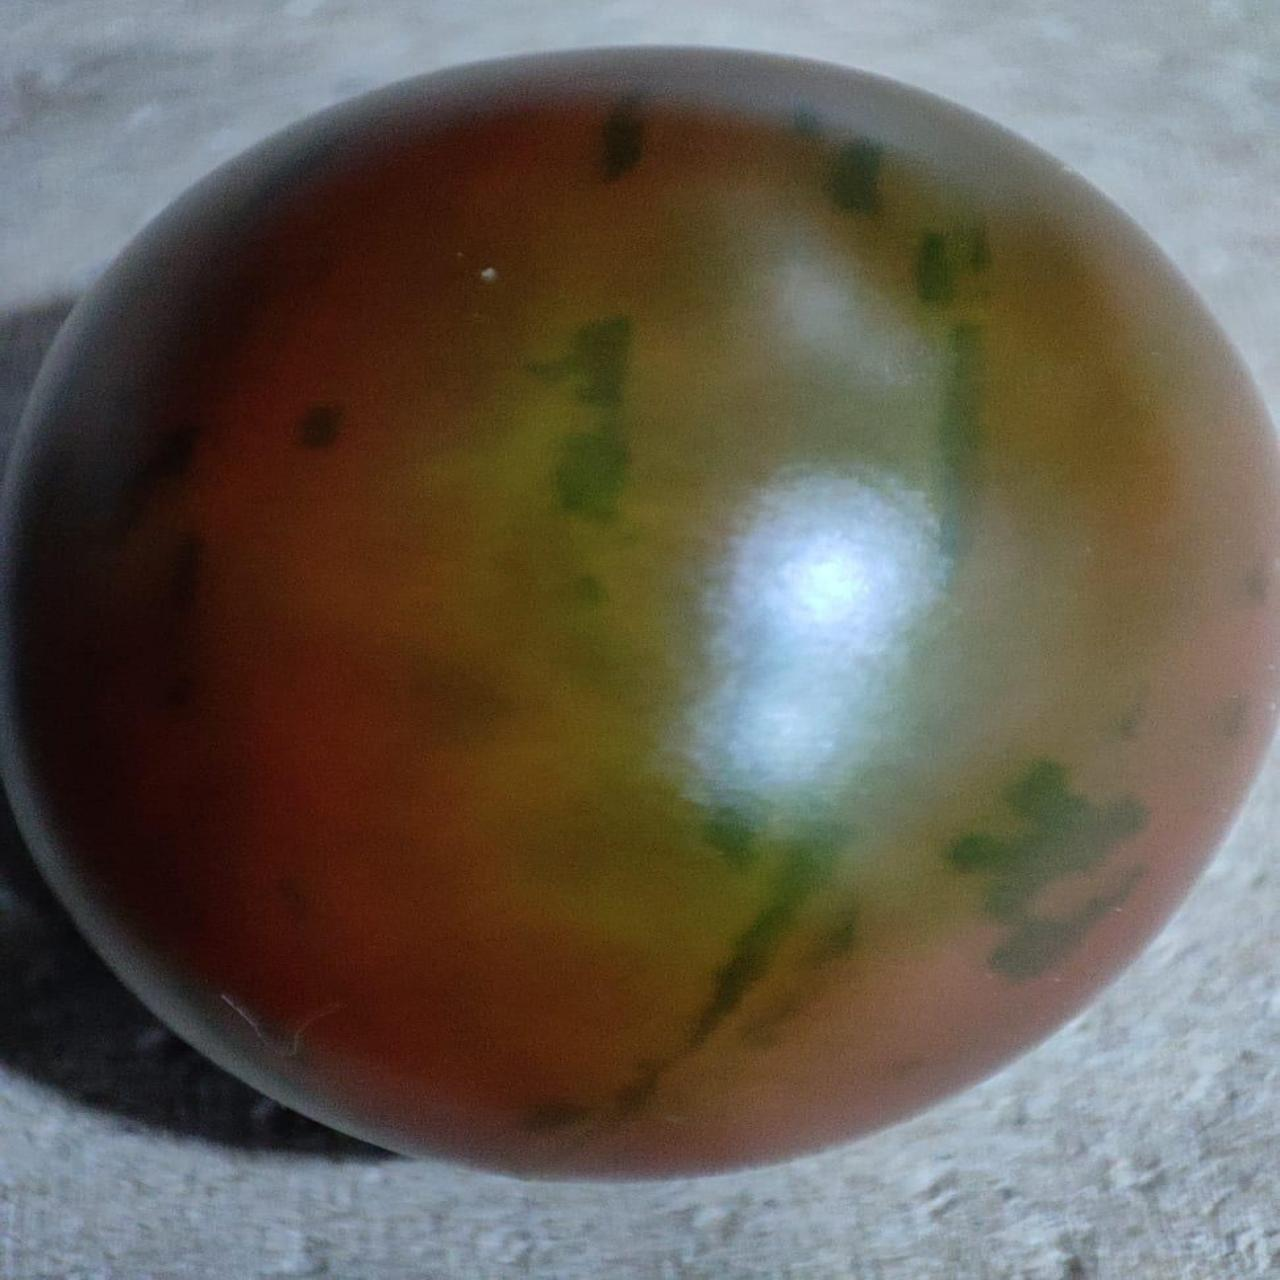T_F_R: (4, 46, 1276, 1180)
